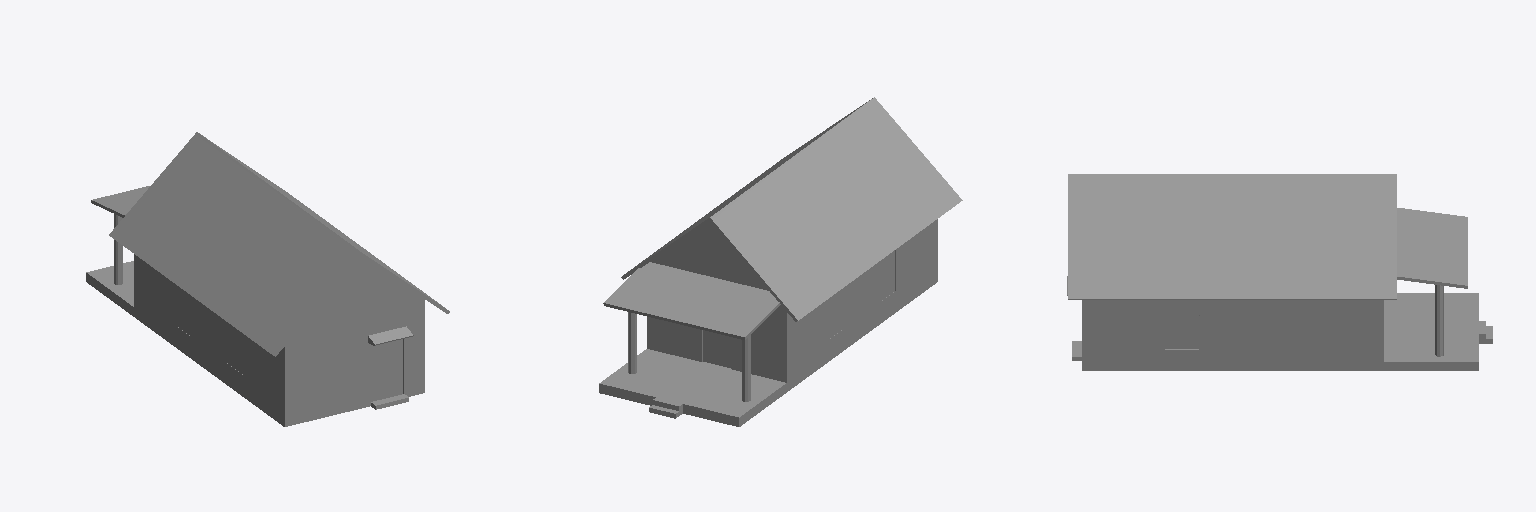
File: house.obj
3 renders of one model, left to right at view 1: azimuth 30°, elevation 25°; view 2: azimuth 150°, elevation 25°; view 3: azimuth 270°, elevation 25°, orthographic.
Parts seen in each view (by area): view 1: polySurface73; view 2: polySurface73; view 3: polySurface73.
Boxes of the visible parts, x1,y1,x2,y2 form: polySurface73: [86, 132, 449, 426]; polySurface73: [599, 97, 962, 426]; polySurface73: [1067, 174, 1492, 370].
Bounding box in the file's own units: 24.28 × 21.28 × 50.36.